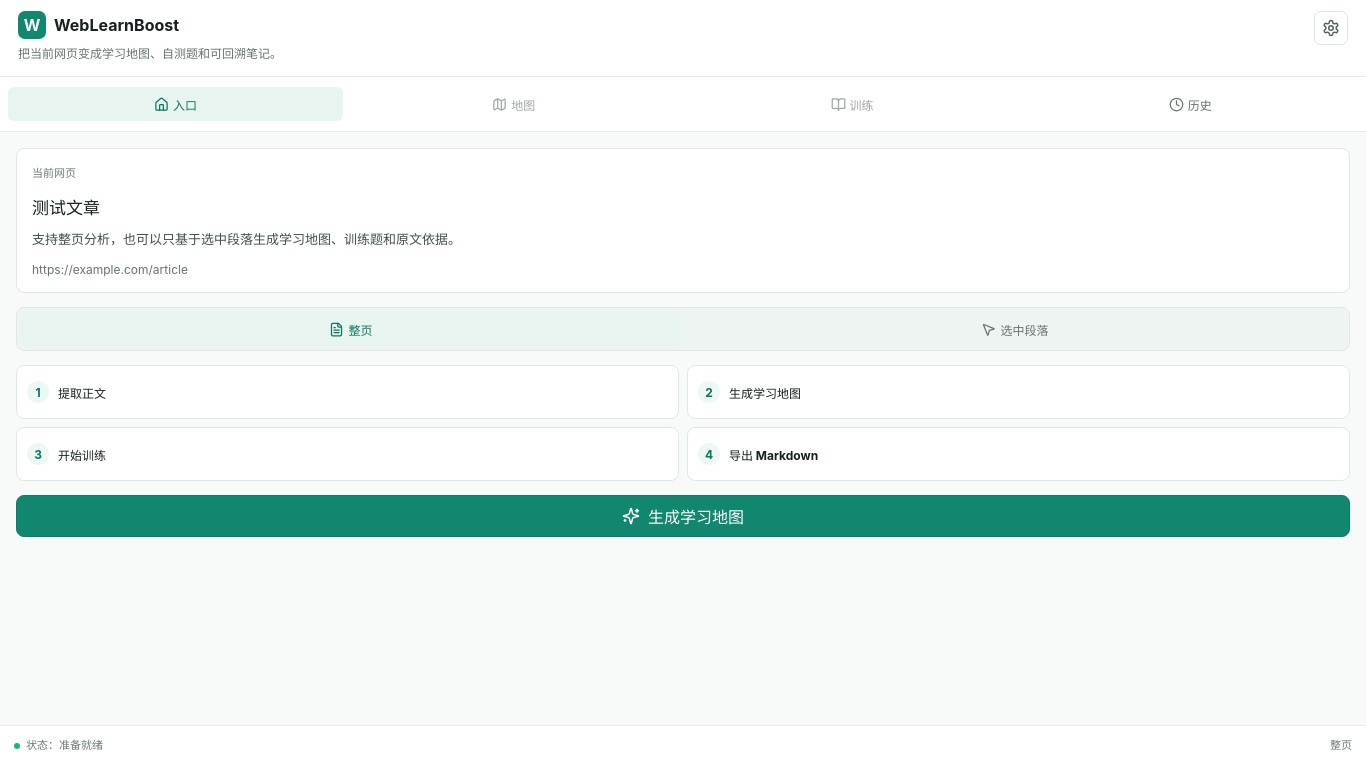
Test case: AppView learning flow › can reset the current page flow without regenerating existing results
Click the button "生成学习地图" at [683, 516], box [16,496,1350,538]
(page scrolled)
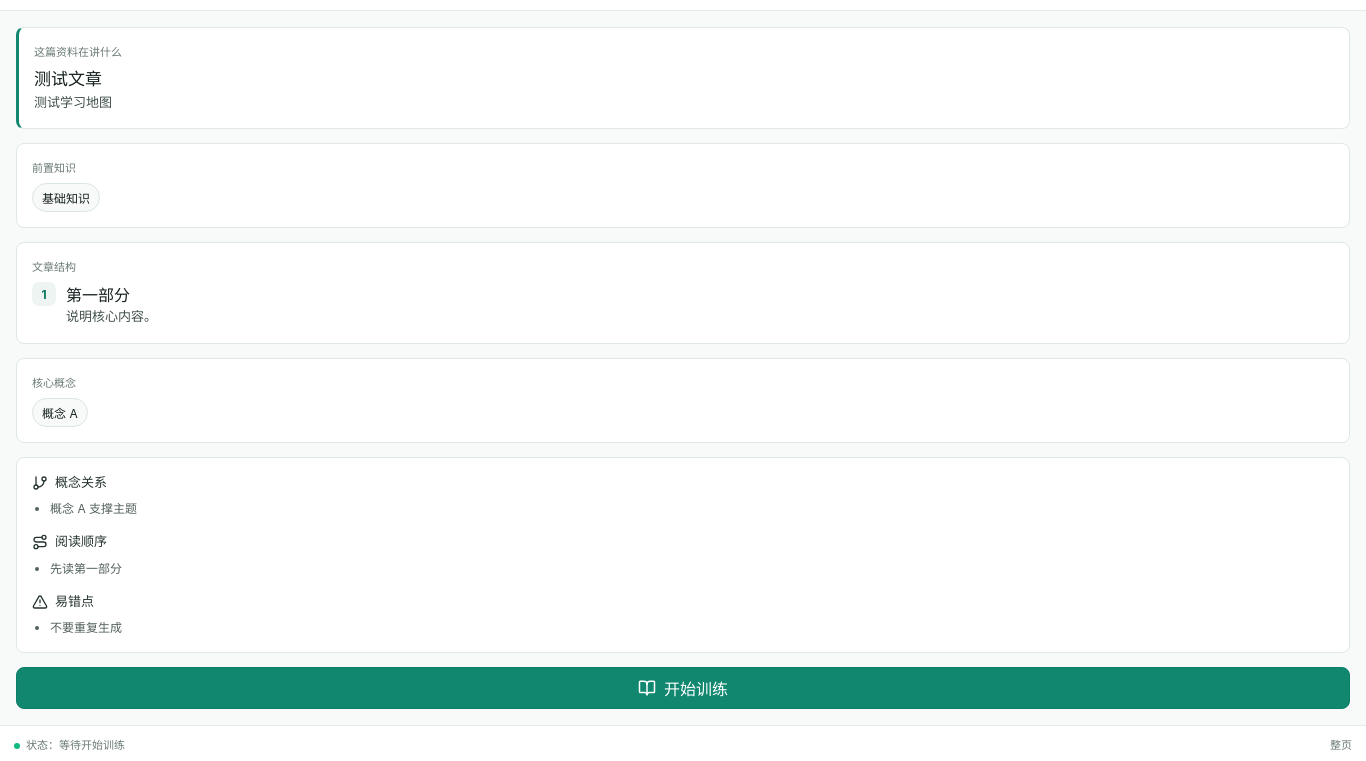
Click the button "开始训练" at [683, 688], box [16,667,1350,709]
(page scrolled)
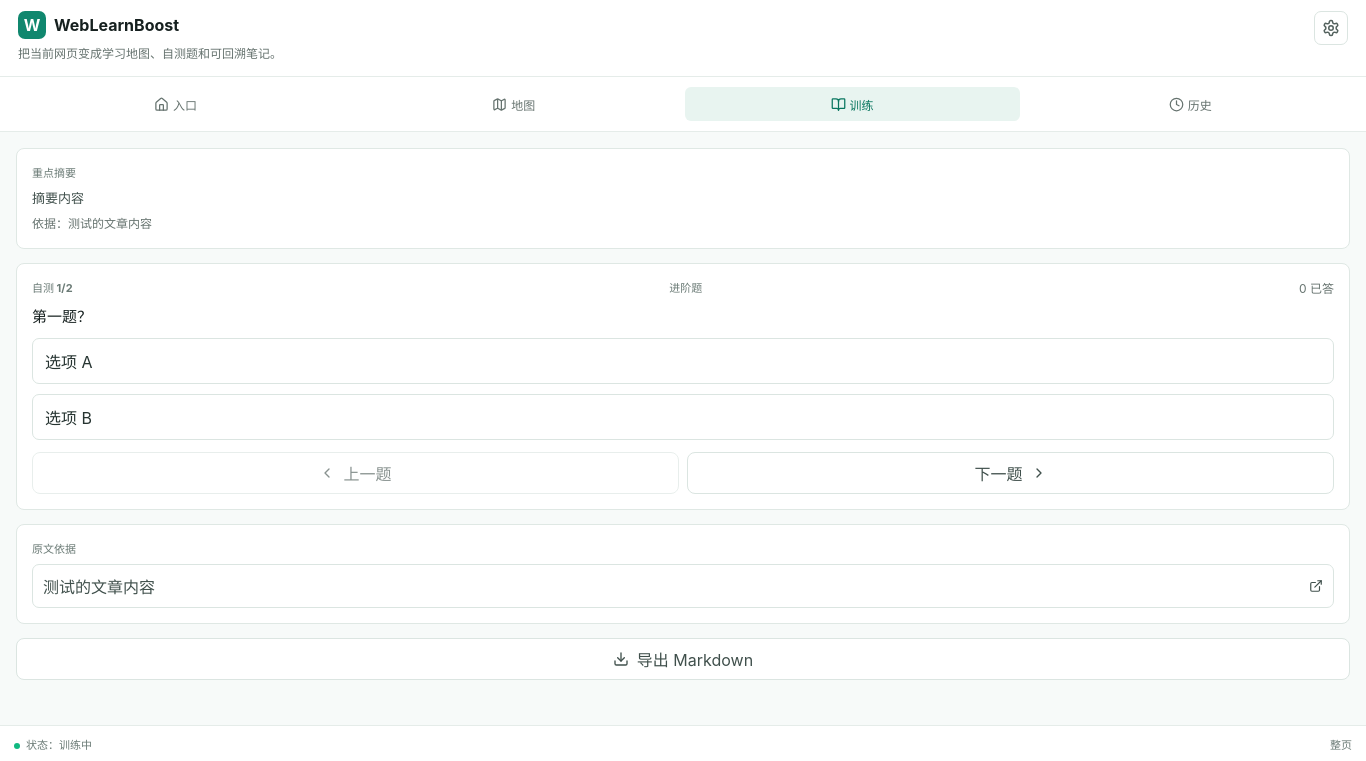
Expected: the heading "第一题？" is shown, [32,307,92,326]
Click the button "入口" at [176, 104], box [8,87,343,121]
(page scrolled)
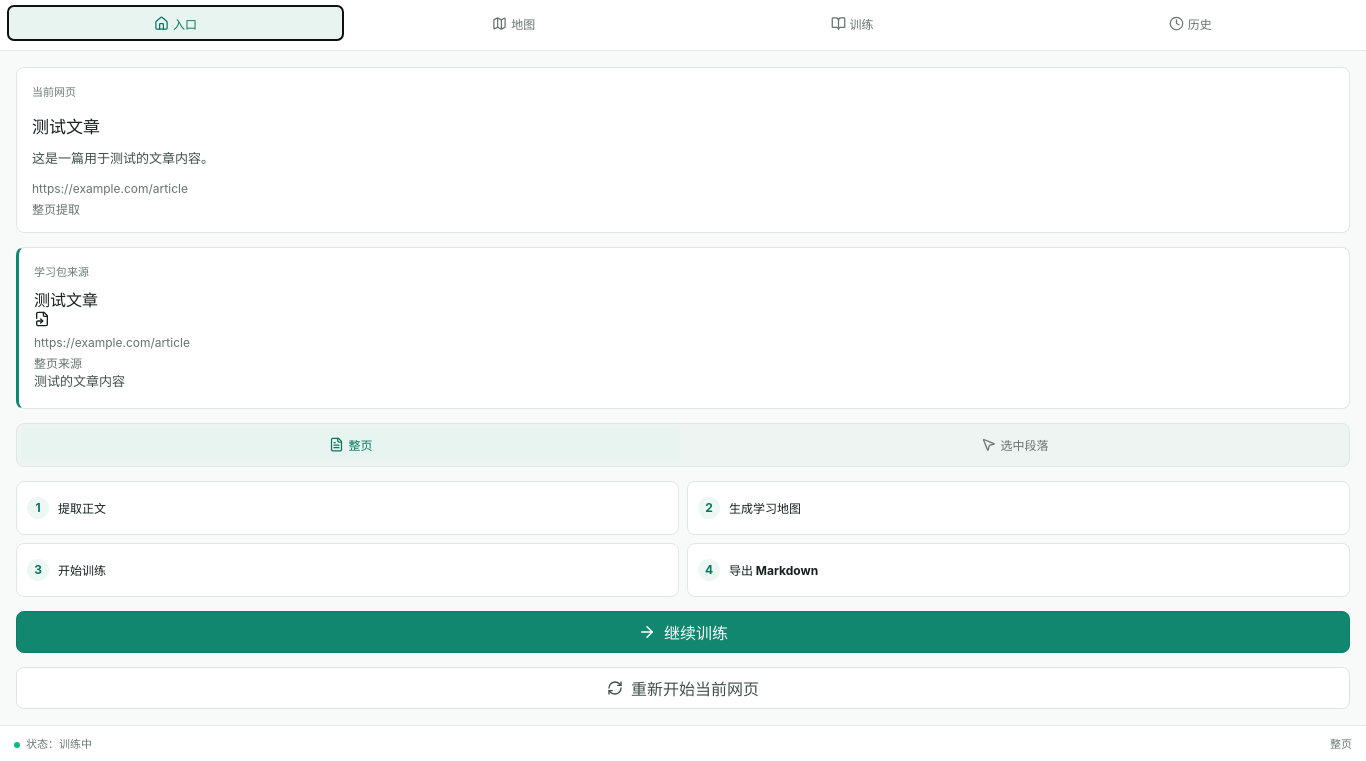
Click the button "重新开始当前网页" at [683, 688], box [16,667,1350,709]
(page scrolled)
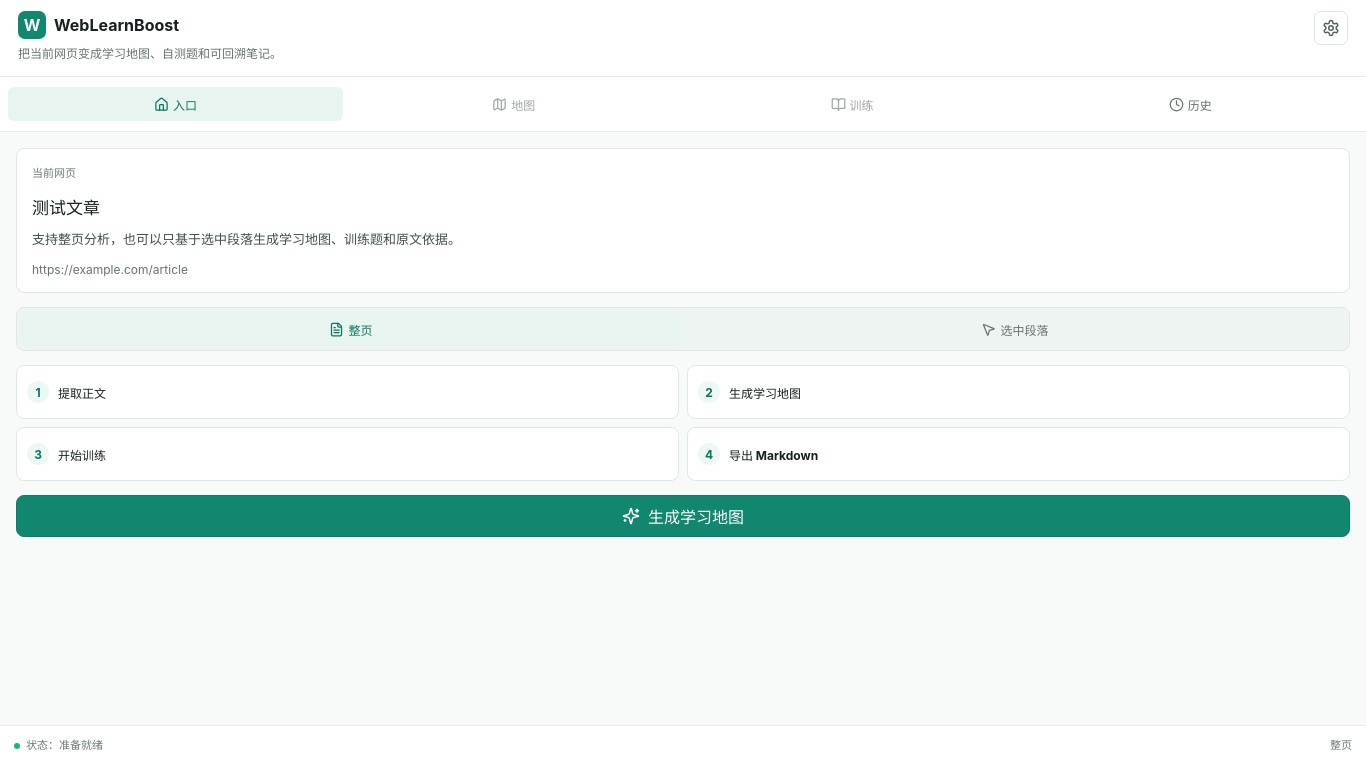
Expected: the button "生成学习地图" is shown, [16,496,1350,538]
